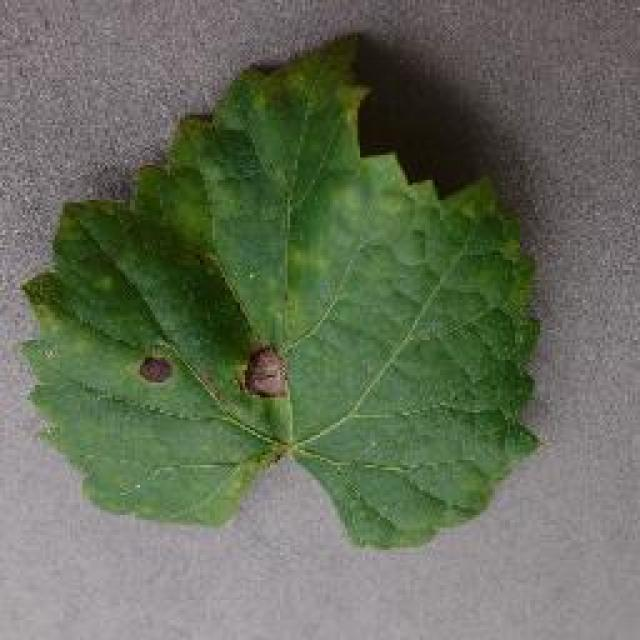Grape___Black_rot: (15, 30, 547, 554)
